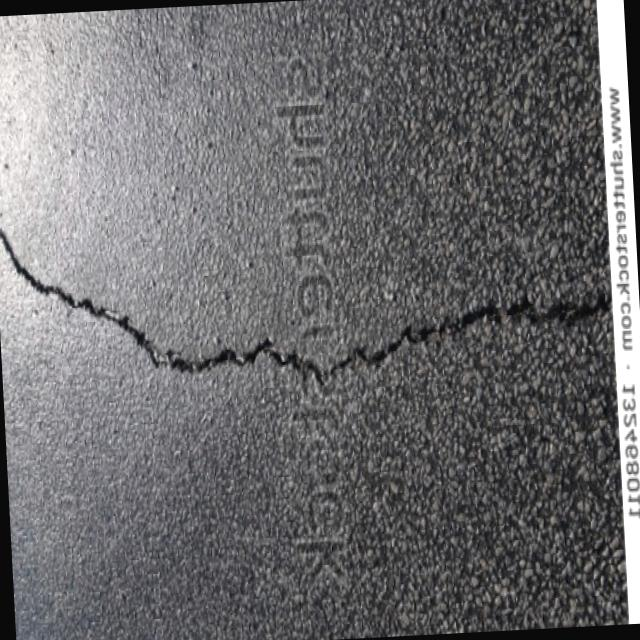crack: (0, 188, 614, 410)
